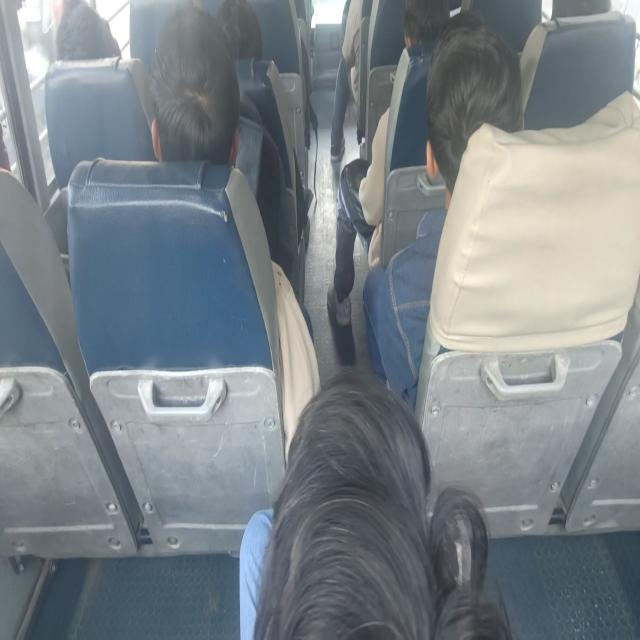person: (263, 387, 499, 640), (432, 40, 524, 194), (158, 26, 238, 177), (52, 0, 120, 66), (201, 0, 263, 69), (398, 0, 463, 53)
